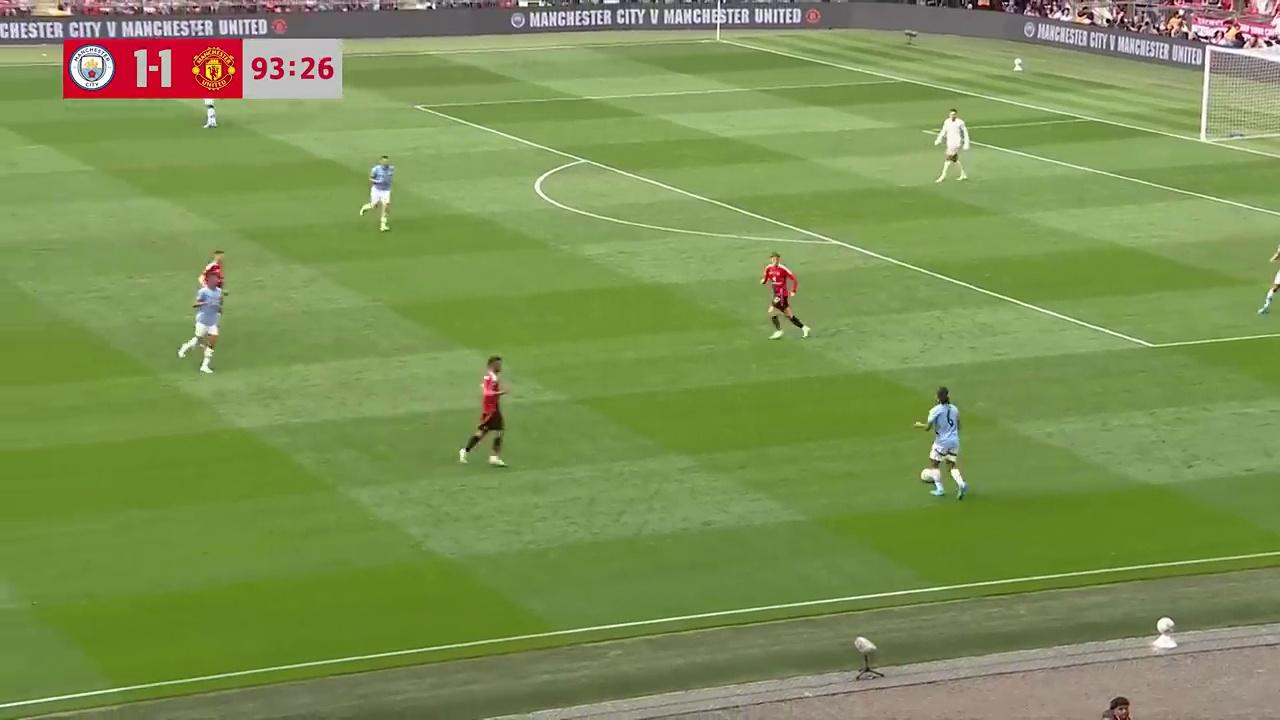ball: (919, 465, 932, 482)
player: (913, 386, 969, 499), (458, 355, 511, 465), (176, 274, 226, 374), (760, 252, 810, 340), (187, 248, 226, 337), (359, 154, 395, 230), (933, 109, 967, 182), (1257, 244, 1280, 318), (201, 84, 218, 130)
